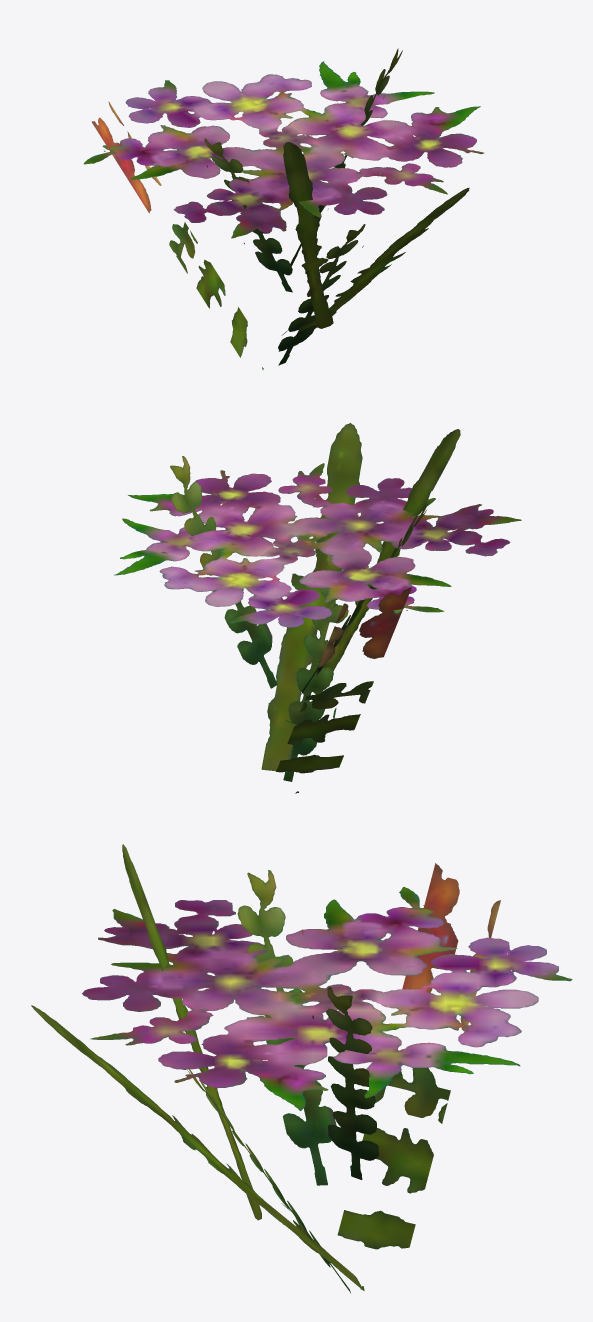
The model's file is cj_xinshou_cao01_56_04_8611out.fbx.
3 renders of one model, top to bottom at view 1: azimuth 30°, elevation 25°; view 2: azimuth 150°, elevation 25°; view 3: azimuth 270°, elevation 25°, orthographic. The views are drawn at different scales.
Visible parts, largest first — view 1: cj_xinshou_cao01; view 2: cj_xinshou_cao01; view 3: cj_xinshou_cao01.
Part boxes in pixels (<box>): cj_xinshou_cao01: <box>83,48,484,369</box>; cj_xinshou_cao01: <box>114,423,521,793</box>; cj_xinshou_cao01: <box>31,844,572,1292</box>.
Size of the model in its own units: 1.13 by 0.9756 by 1.19.
